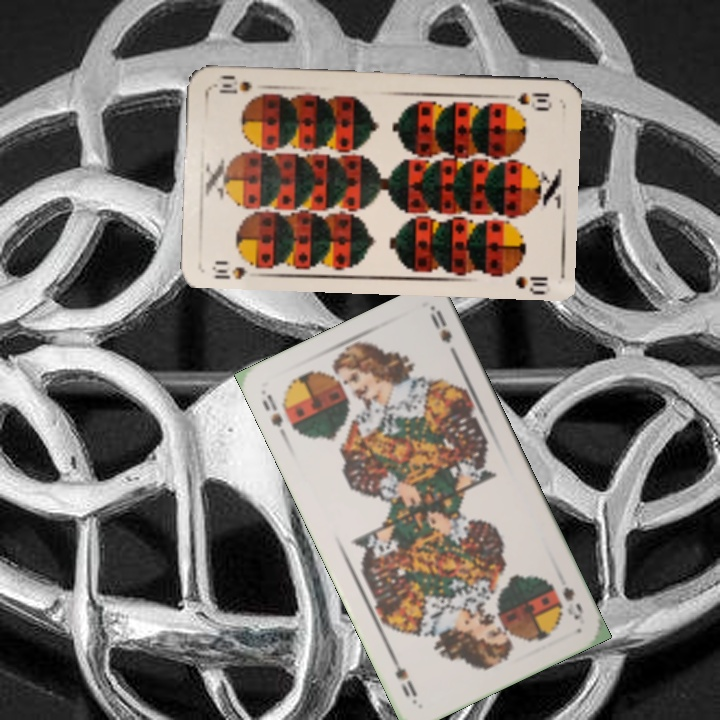S10: (499, 88, 555, 109), (207, 256, 249, 282)
SO: (258, 389, 291, 443), (558, 583, 586, 623)
